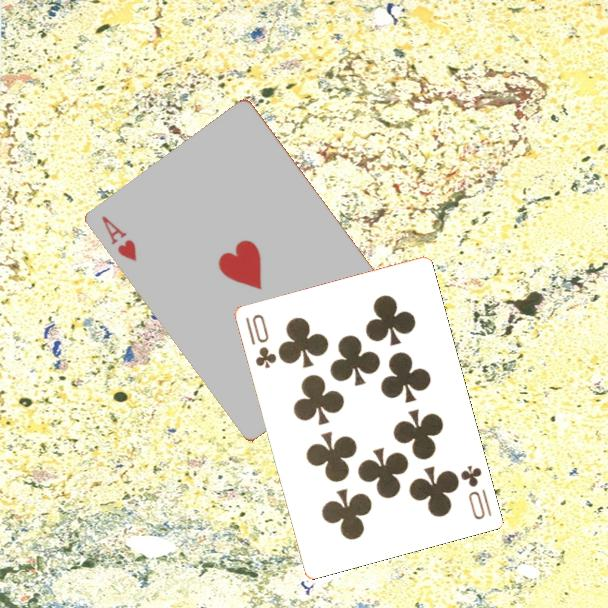c10: (241, 311, 279, 371), (457, 461, 494, 522)
h01: (98, 212, 140, 265)
